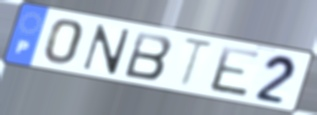0: (40, 17, 86, 67)
2: (249, 53, 301, 110)
B: (122, 30, 175, 82)
E: (208, 43, 264, 99)
N: (80, 22, 134, 77)
T: (176, 35, 217, 91)
